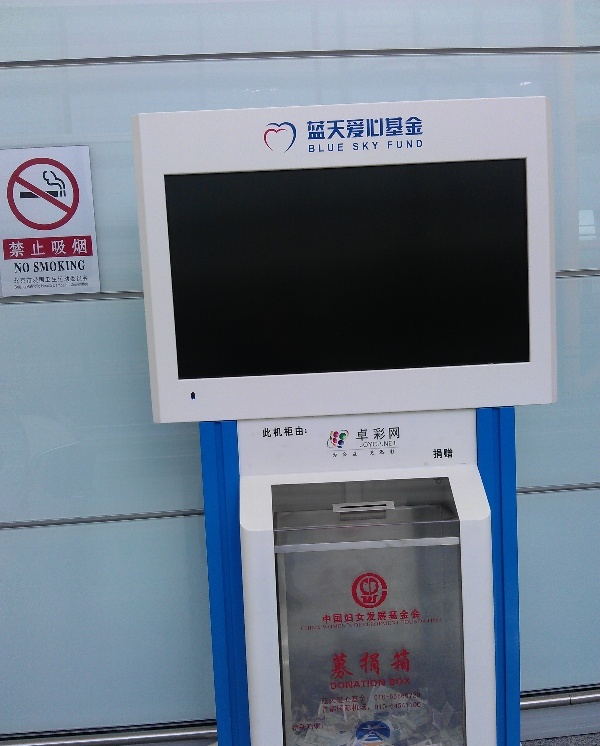text: (337, 648, 352, 680), (353, 648, 368, 680), (369, 648, 384, 680), (385, 648, 400, 680), (321, 116, 336, 140), (337, 116, 352, 140), (353, 116, 368, 140), (369, 116, 384, 140), (385, 116, 400, 140), (401, 116, 416, 140), (401, 648, 411, 680), (307, 116, 320, 140), (17, 238, 32, 258), (33, 238, 48, 258), (49, 238, 64, 258), (65, 238, 80, 258), (328, 648, 336, 680), (385, 426, 401, 441), (369, 426, 384, 441), (321, 609, 336, 624), (337, 609, 352, 624), (353, 609, 368, 624), (369, 609, 384, 624), (385, 609, 400, 624), (401, 609, 416, 624), (321, 691, 336, 706), (337, 691, 352, 706), (353, 691, 368, 706), (369, 691, 384, 706), (385, 691, 400, 706), (401, 691, 416, 706), (337, 700, 352, 714), (353, 700, 368, 714), (369, 700, 384, 714), (385, 700, 400, 714), (401, 700, 416, 714), (322, 700, 336, 714), (273, 426, 288, 439), (289, 426, 304, 439), (356, 426, 368, 441), (433, 448, 448, 460), (17, 262, 31, 274), (49, 261, 64, 272), (65, 261, 80, 272), (337, 679, 352, 690), (353, 679, 368, 690), (369, 679, 384, 690), (34, 261, 48, 272), (321, 143, 336, 153), (305, 722, 320, 732), (401, 140, 416, 150), (417, 116, 423, 140), (9, 238, 16, 258), (81, 238, 88, 258), (17, 275, 32, 284), (33, 275, 48, 284), (49, 275, 64, 284), (65, 275, 80, 284), (353, 142, 368, 151), (262, 426, 272, 439), (291, 722, 304, 732), (387, 140, 400, 150), (308, 143, 320, 153), (401, 617, 416, 625), (417, 617, 432, 625), (337, 623, 353, 630), (369, 441, 384, 448), (337, 451, 352, 458), (369, 621, 384, 628), (385, 621, 400, 628), (369, 142, 380, 151), (370, 449, 384, 456), (354, 621, 368, 628), (385, 441, 398, 448), (323, 623, 336, 630), (389, 678, 400, 686), (401, 678, 412, 686), (337, 143, 345, 153), (305, 626, 321, 631), (385, 449, 396, 456), (417, 609, 422, 624), (417, 691, 422, 706), (81, 275, 89, 284), (433, 617, 442, 625), (417, 700, 422, 714), (417, 140, 424, 150), (330, 679, 336, 690), (53, 283, 64, 289), (360, 441, 368, 448), (81, 261, 86, 272), (305, 426, 309, 439), (449, 448, 453, 460), (17, 285, 26, 290), (71, 282, 80, 287), (81, 282, 89, 287), (353, 451, 358, 458), (33, 285, 41, 289), (321, 722, 324, 732), (65, 283, 70, 289), (14, 262, 16, 274), (42, 284, 48, 288), (333, 451, 336, 458), (27, 285, 32, 289), (14, 275, 16, 284), (49, 284, 53, 288), (385, 679, 386, 690), (302, 626, 304, 631), (15, 285, 16, 290)
